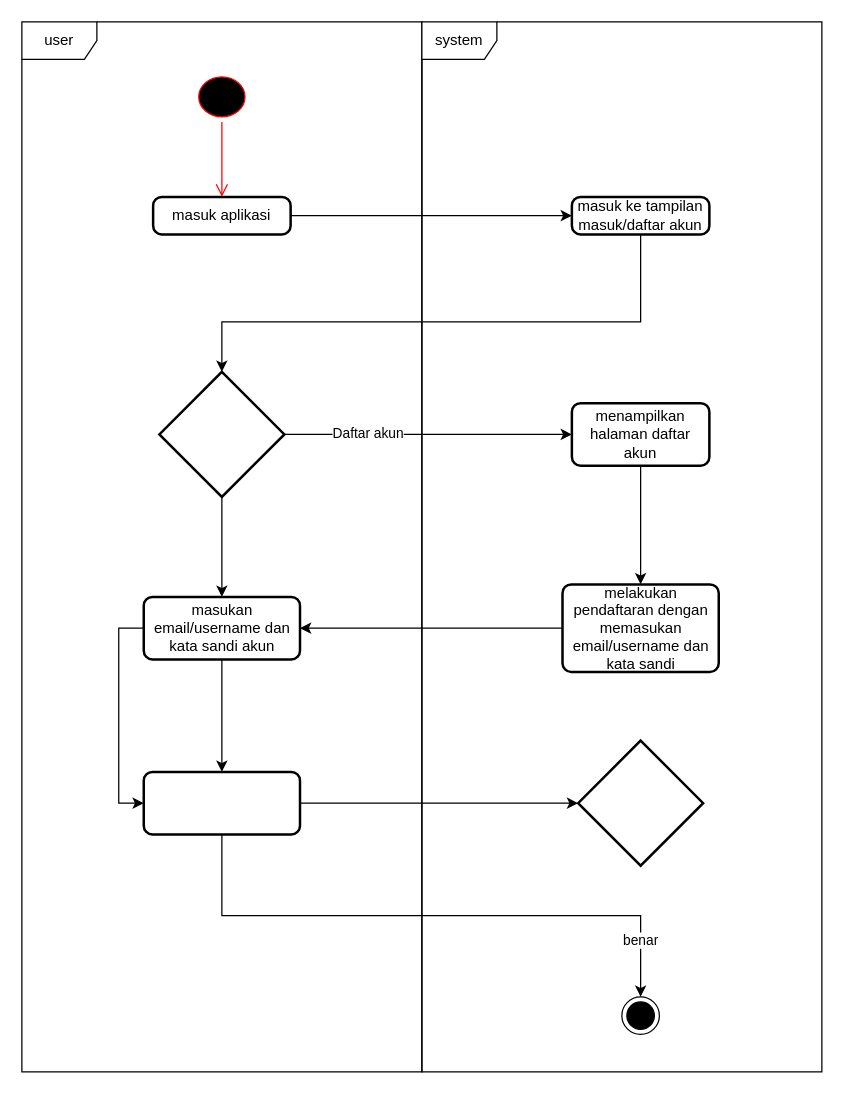
The diagram is 844 pixels wide and 1094 high, and some of its shapes have lost their labels. The centre of each missing label's shape, as x and y in pixels:
kalau salah login gagal: point 640,802
konfimasi email/username dan kata sandi: point 221,802
login/daftar akun: point 221,434
